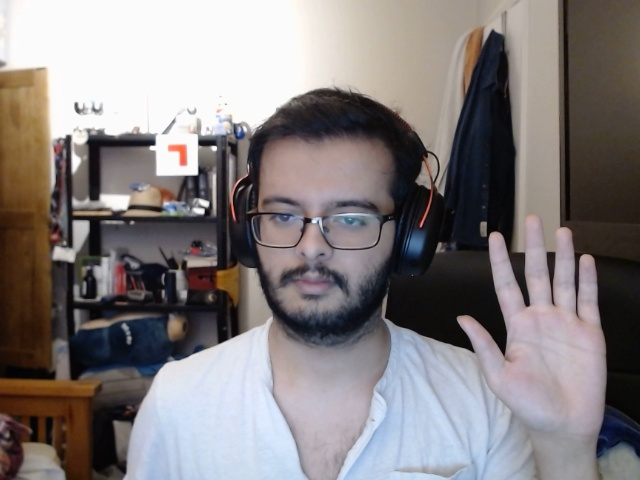Hello: (453, 206, 624, 442)
